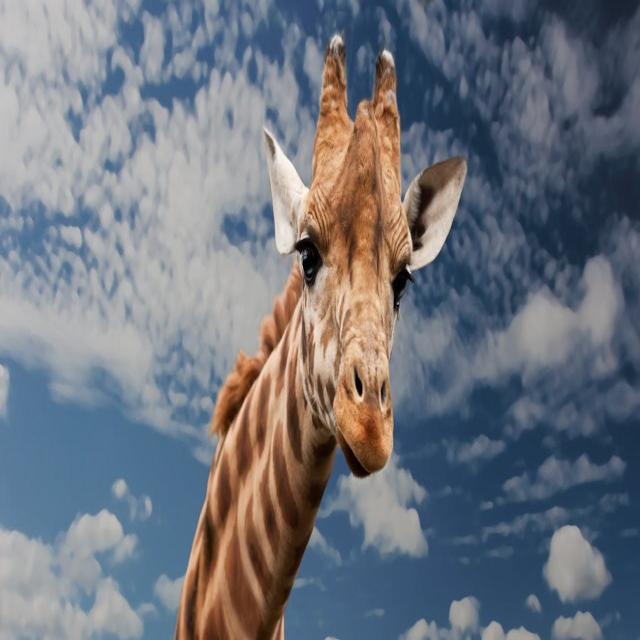Giraffe: (174, 23, 469, 640)
